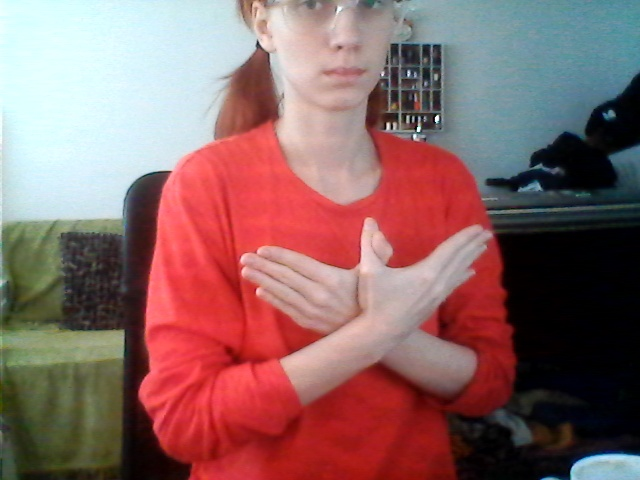lekar: (238, 212, 500, 350)
